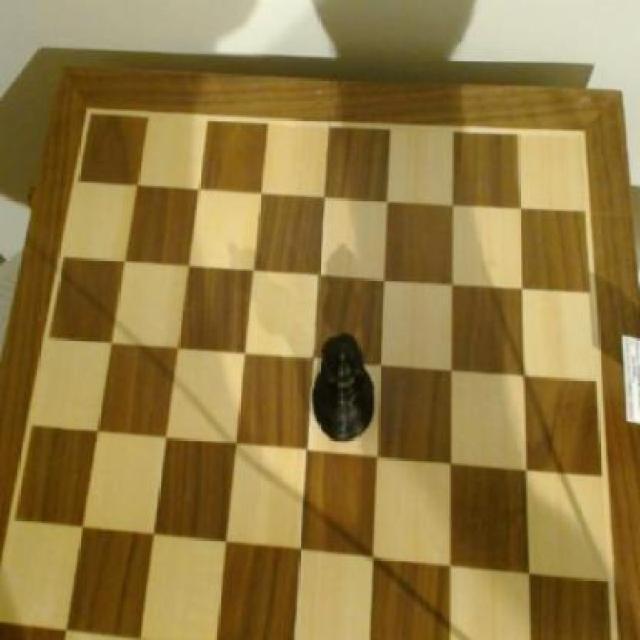black-pawn: (311, 328, 378, 449)
